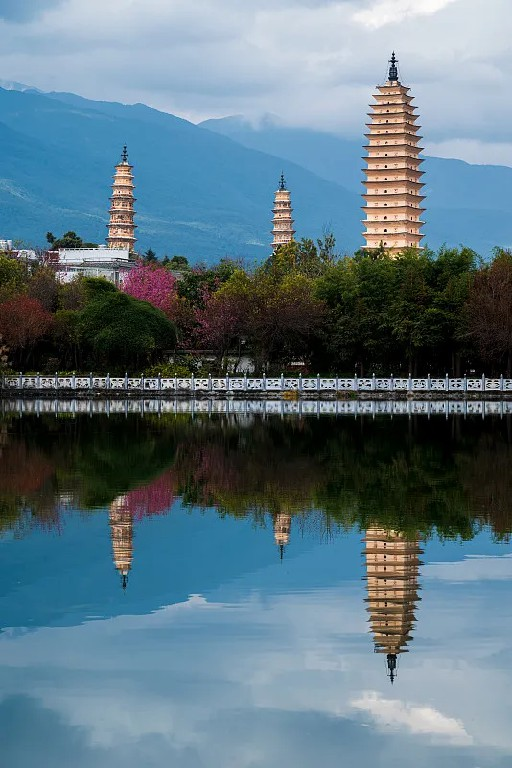ThreePagoda: (361, 52, 427, 257)
